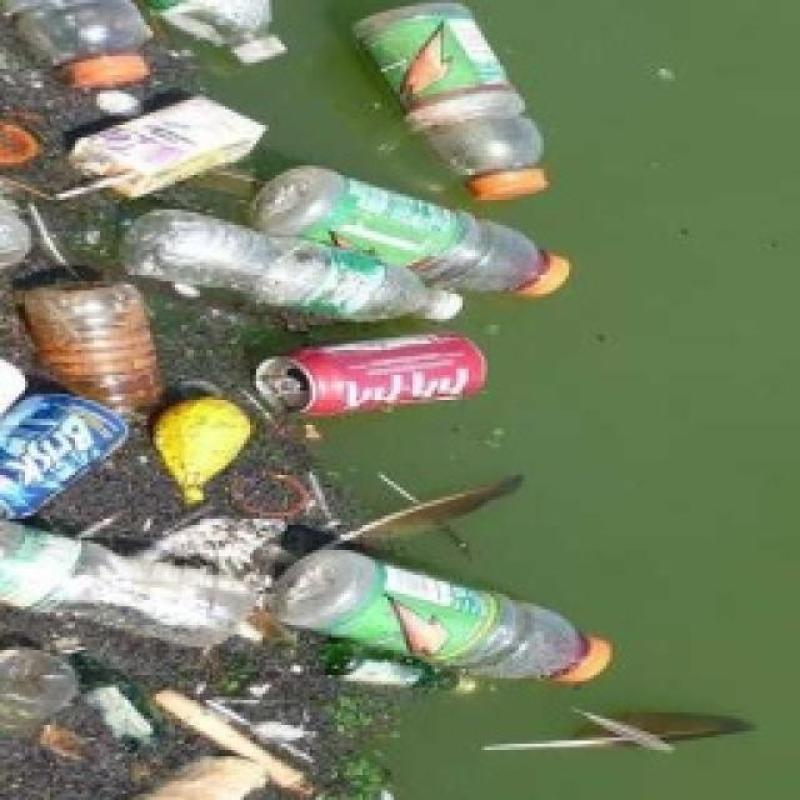botella: (278, 545, 612, 686), (120, 204, 464, 320), (252, 170, 570, 292), (351, 5, 549, 196), (0, 517, 252, 654), (20, 275, 161, 435), (0, 0, 152, 87), (146, 0, 284, 62)
